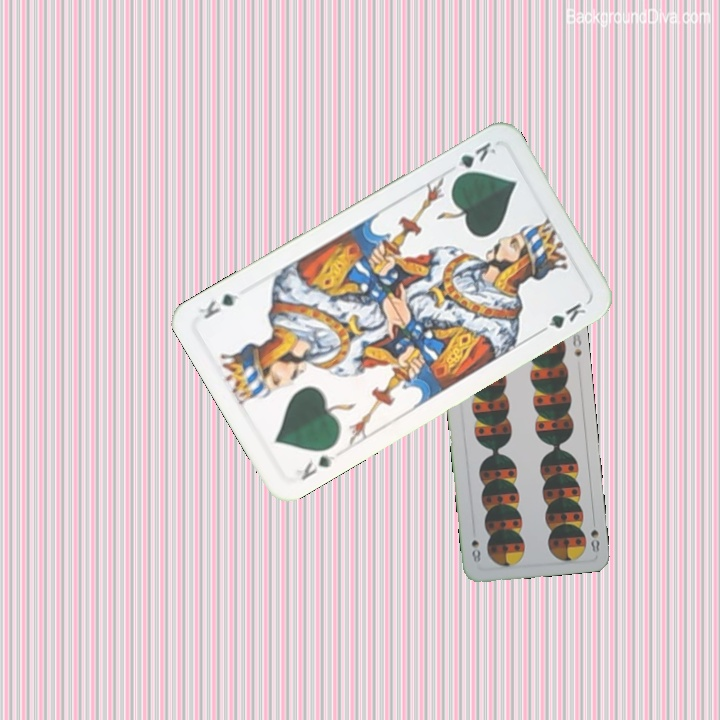GK: (450, 138, 498, 182), (297, 451, 337, 484)
S8: (587, 525, 602, 555)
